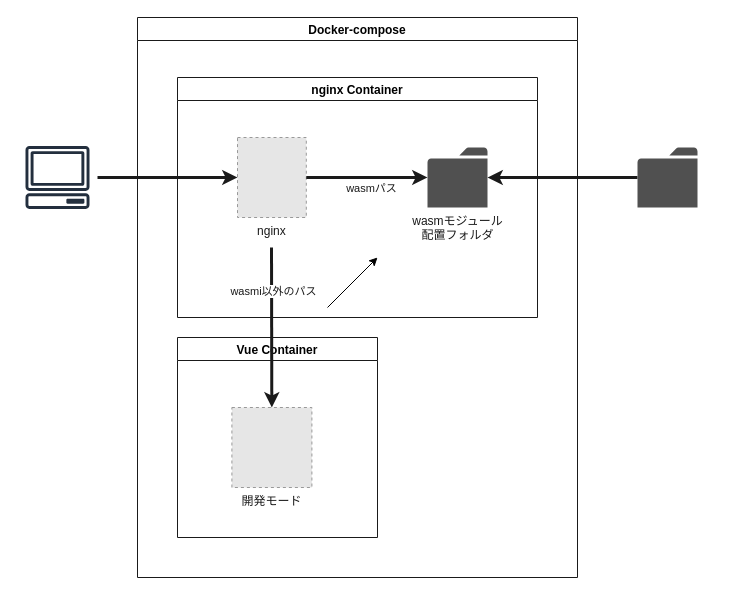
Some shapes in this 739 by 595 pixel diagram are drawn without their labels. Grey dashed boxes stand in for pictures. Each missing label, with the centre of its shape:
"Client" belongs at [57,177].
"wasmモジュール ホスト側マウント元" belongs at [667,177].
